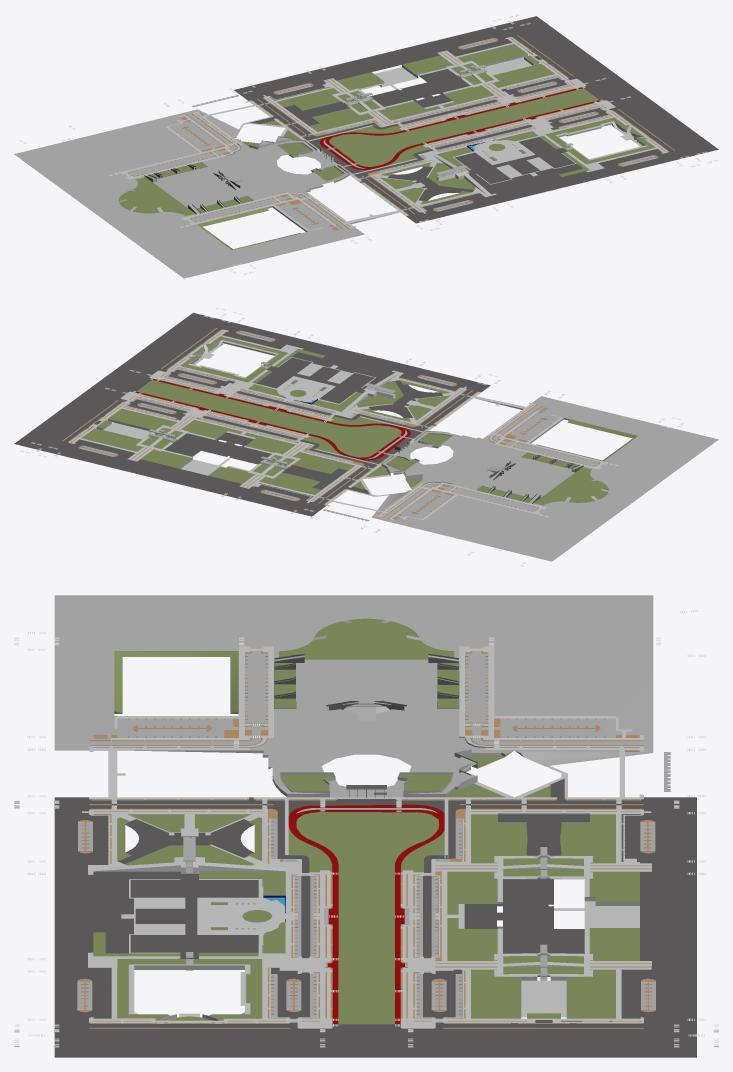
The model's file is TERRENO.FBX.
3 renders of one model, top to bottom at view 1: azimuth 30°, elevation 25°; view 2: azimuth 150°, elevation 25°; view 3: azimuth 270°, elevation 25°, orthographic. The views are drawn at different scales.
Visible parts, largest first — view 1: GRIS CLARO MATE, CARRETERA, CESPED, PAVIMENTO ROJIZO, TIERRA, GRANATE MATE, BLANCO MATE, GRIS MATE; view 2: GRIS CLARO MATE, CARRETERA, CESPED, PAVIMENTO ROJIZO, TIERRA, GRANATE MATE, BLANCO MATE, GRIS MATE; view 3: GRIS CLARO MATE, CARRETERA, CESPED, PAVIMENTO ROJIZO, TIERRA, GRANATE MATE, BLANCO MATE, GRIS MATE.
Part boxes in pixels (left/top/right/bottom): GRIS CLARO MATE: left=14, top=35, right=674, bottom=278; CARRETERA: left=234, top=16, right=718, bottom=223; CESPED: left=118, top=44, right=655, bottom=249; PAVIMENTO ROJIZO: left=118, top=37, right=667, bottom=231; TIERRA: left=127, top=35, right=674, bottom=230; GRANATE MATE: left=320, top=87, right=600, bottom=169; BLANCO MATE: left=18, top=14, right=717, bottom=274; GRIS MATE: left=144, top=147, right=335, bottom=214; GRIS CLARO MATE: left=62, top=328, right=718, bottom=561; CARRETERA: left=14, top=312, right=490, bottom=516; CESPED: left=81, top=336, right=637, bottom=505; PAVIMENTO ROJIZO: left=69, top=329, right=608, bottom=520; TIERRA: left=62, top=328, right=599, bottom=519; GRANATE MATE: left=135, top=379, right=410, bottom=460; BLANCO MATE: left=20, top=307, right=683, bottom=566; GRIS MATE: left=395, top=438, right=583, bottom=503; GRIS CLARO MATE: left=54, top=595, right=670, bottom=1028; CARRETERA: left=54, top=778, right=696, bottom=1057; CESPED: left=93, top=618, right=639, bottom=1024; PAVIMENTO ROJIZO: left=82, top=645, right=651, bottom=1028; TIERRA: left=77, top=651, right=655, bottom=1028; GRANATE MATE: left=288, top=804, right=444, bottom=1023; BLANCO MATE: left=14, top=609, right=718, bottom=1047; GRIS MATE: left=274, top=653, right=459, bottom=798.
Size of the model in its own units: 745 by 14.95 by 483.
